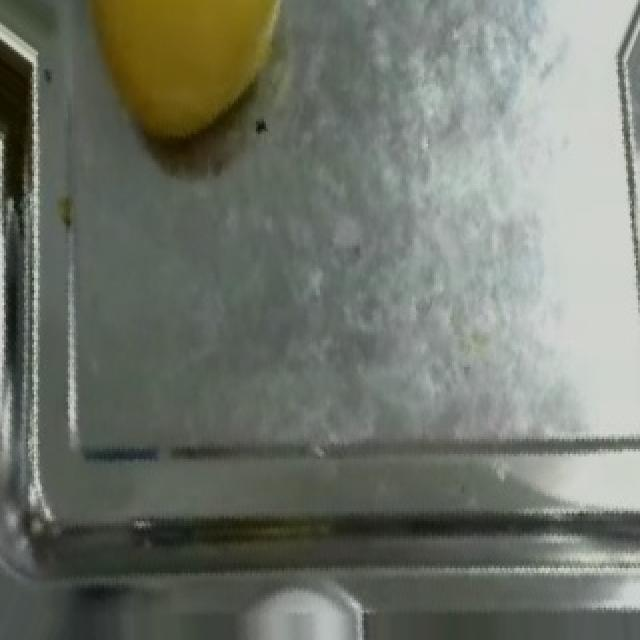fruit: (56, 0, 320, 166)
